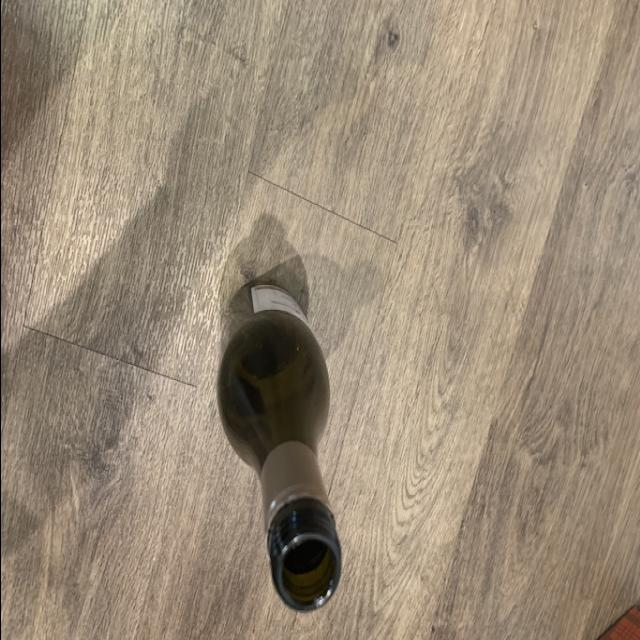Glass Bottle: (212, 274, 345, 614)
